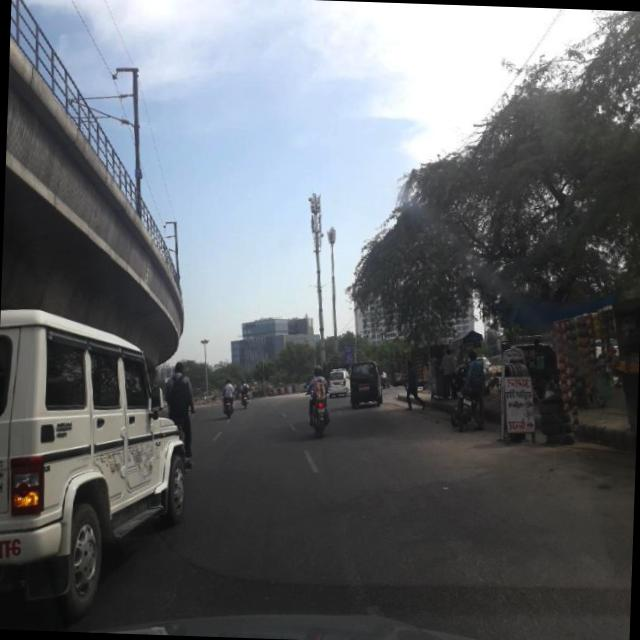crack: (181, 482, 576, 636)
